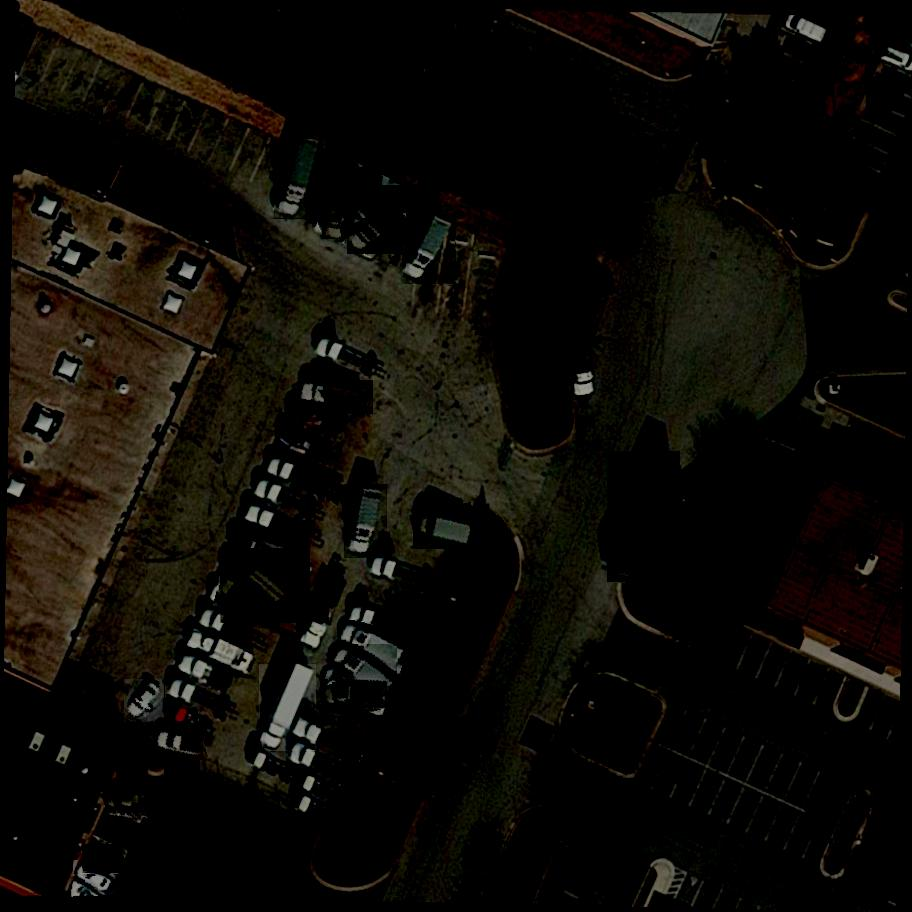large-vehicle: (608, 452, 682, 586), (221, 547, 312, 624), (347, 181, 422, 255), (259, 663, 316, 752), (274, 136, 324, 220), (398, 214, 457, 284), (230, 532, 312, 580), (341, 617, 411, 673), (332, 645, 398, 701), (345, 484, 387, 559), (348, 168, 382, 252), (322, 156, 356, 239), (301, 382, 373, 415), (412, 514, 475, 550), (324, 686, 387, 707)
small-vehicle: (125, 680, 166, 723), (74, 861, 119, 900), (154, 727, 205, 760), (83, 844, 125, 874), (164, 761, 203, 793), (865, 82, 905, 112), (105, 792, 154, 814)
